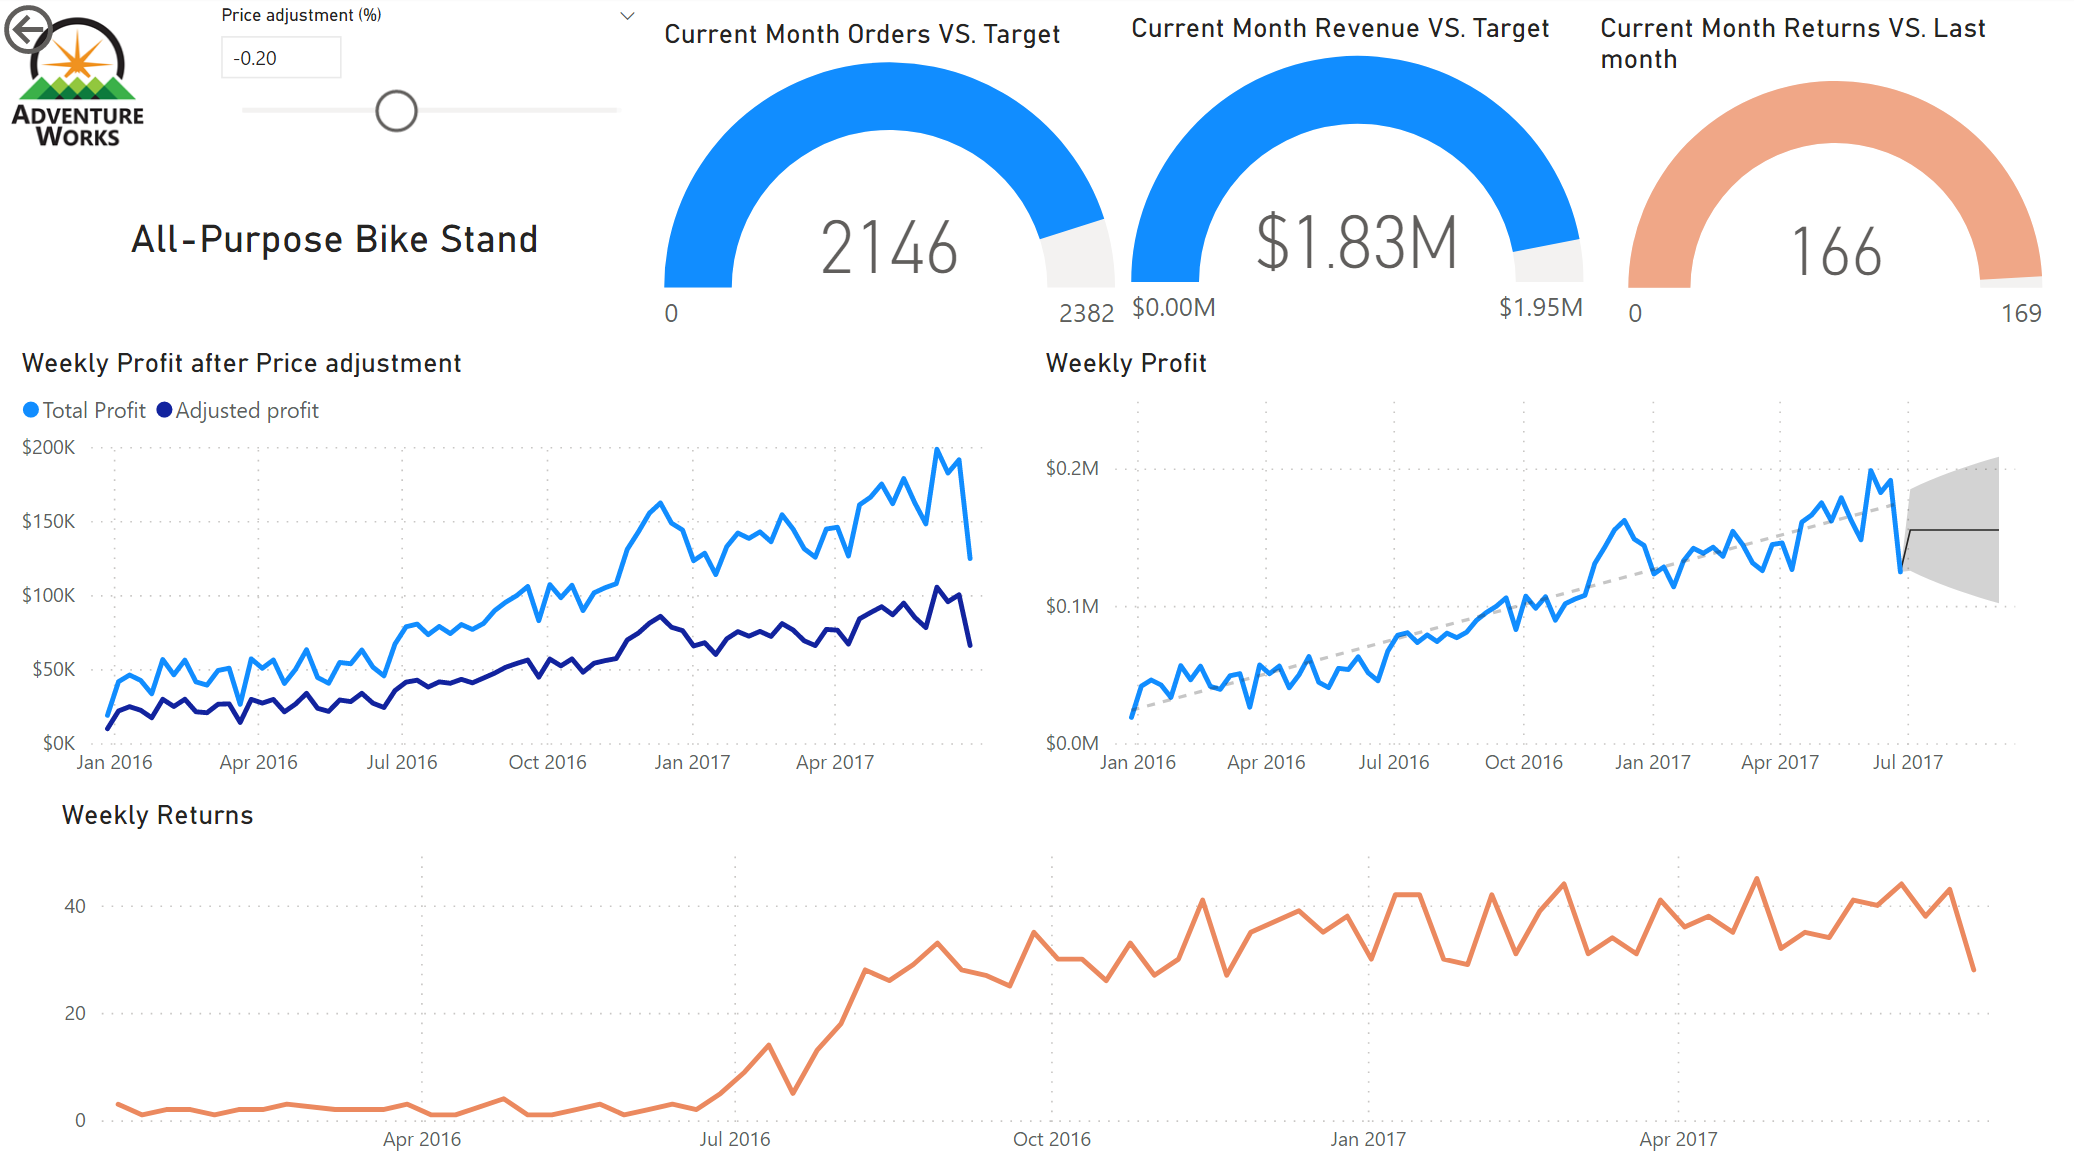

The dashboard page shown, as its layout file describes it:
{"tool":"powerbi","page":{"name":"Product detail","canvas":[1280,720],"ordinal":1},"visuals":[{"type":"image","box":[0,0,100.4,104.3],"z":0},{"type":"lineChart","title":"Weekly Profit","fields":{"Y":["AW_Sales.Total Profit"],"Category":["AW_Calendar_Lookup.Start of Week"]},"box":[639.4,214.3,617.5,274.2],"z":1000},{"type":"lineChart","title":"Weekly Returns","fields":{"Y":["AW_Returns.Total Returns"],"Category":["AW_Calendar_Lookup.Start of Week"]},"box":[35,492.1,1209.6,227.9],"z":2000},{"type":"gauge","title":"Current Month Orders VS. Target","fields":{"Y":["AW_Sales.Total Orders"],"MaxValue":["AW_Sales.Order Target"]},"box":[405.2,12.1,287,206.2],"z":3000},{"type":"gauge","title":"Current Month Revenue VS. Target","fields":{"Y":["AW_Sales.Total Revenue"],"MaxValue":["AW_Sales.Revenue Target"]},"box":[692.3,8.4,288.2,206.2],"z":4000},{"type":"gauge","title":"Current Month Returns VS. Last month","fields":{"Y":["AW_Returns.Total Returns"],"MaxValue":["AW_Returns.Prev Month Returns"]},"box":[980.5,8.4,299.1,206.2],"z":5000},{"type":"card","fields":{"Values":["Min(AW_Product_Lookup.ProductName)"]},"box":[10.9,115.8,394.4,63.9],"z":6000},{"type":"actionButton","box":[0,0,100,40],"z":7000},{"type":"lineChart","title":"Weekly Profit after Price adjustment","fields":{"Y":["AW_Sales.Total Profit","AW_Sales.Adjusted profit"],"Category":["AW_Calendar_Lookup.Start of Week"]},"box":[10.4,214.3,617.5,274.2],"z":7001},{"type":"slicer","fields":{"Values":["Price adjustment (%).Price adjustment (%)"]},"box":[125.6,0,280,104.8],"z":7003}]}

Visuals, with their boxes in screenshot pixels (x1, y1, x2, y2), scaled from the page's 1280x720 canvas onto the 2074x1163 screenshot:
image: (0, 0, 163, 168)
"Weekly Profit" lineChart: (1036, 346, 2037, 789)
"Weekly Returns" lineChart: (57, 795, 2017, 1162)
"Current Month Orders VS. Target" gauge: (657, 20, 1122, 353)
"Current Month Revenue VS. Target" gauge: (1122, 14, 1589, 347)
"Current Month Returns VS. Last month" gauge: (1589, 14, 2073, 347)
card - Min(AW_Product_Lookup.ProductName): (18, 187, 657, 290)
actionButton: (0, 0, 162, 65)
"Weekly Profit after Price adjustment" lineChart: (17, 346, 1017, 789)
slicer - Price adjustment (%).Price adjustment (%): (204, 0, 657, 169)
